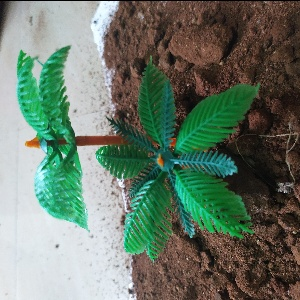plant: (101, 59, 250, 262), (10, 49, 94, 241)
